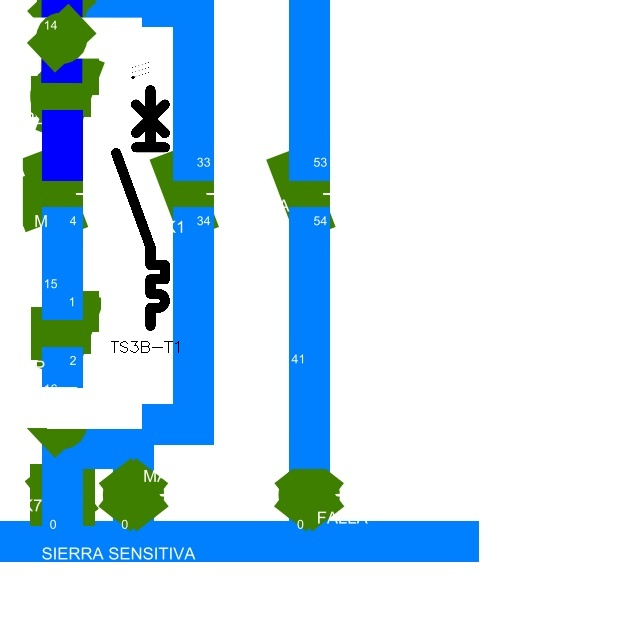interruptor_termomagnetico: (110, 84, 171, 332)
